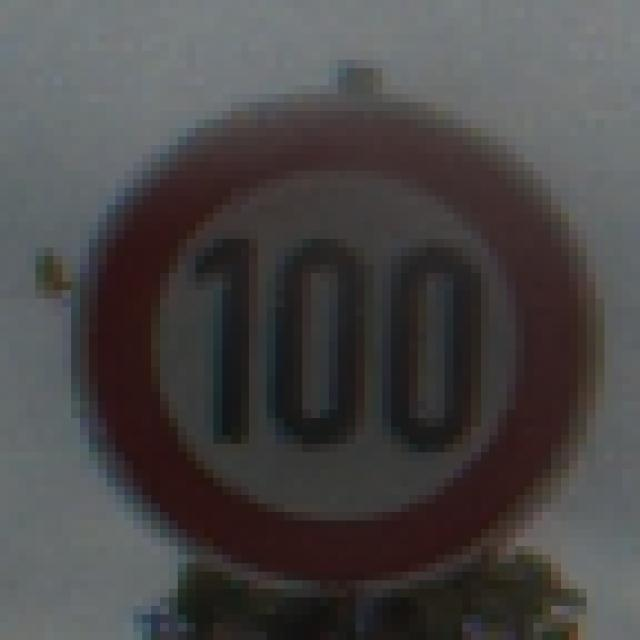speed limit 100: (73, 83, 590, 583)
